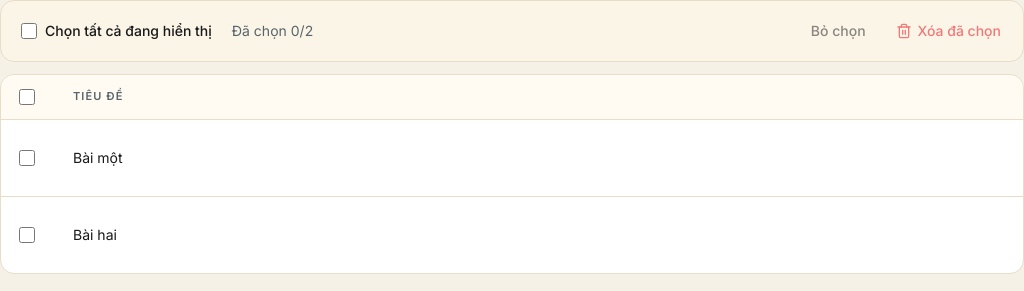
Test case: Chọn và xóa các mục CMS › chọn từng mục và tất cả, có trạng thái một phần, không mở chi tiết hàng
This screenshot has width=1024, height=291.
expect the button with aria-label "Xóa 0 mục đã chọn" is disabled: met, box 886,9 -> 1011,53
Click the checkbox named "Chọn Bài một": (27, 158) 19,150 -> 35,166
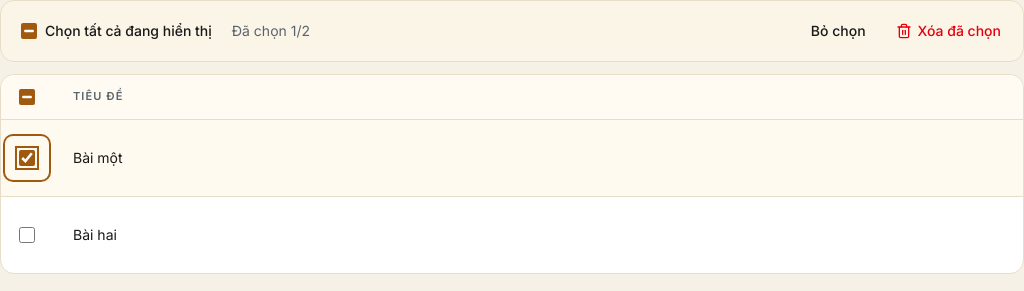
expect the checkbox named "Chọn tất cả các hàng" has attribute aria-checked="mixed": met, box 19,89 -> 35,105
Click the checkbox labelled "Chọn tất cả đang hiển thị": (29, 31) 21,23 -> 37,39
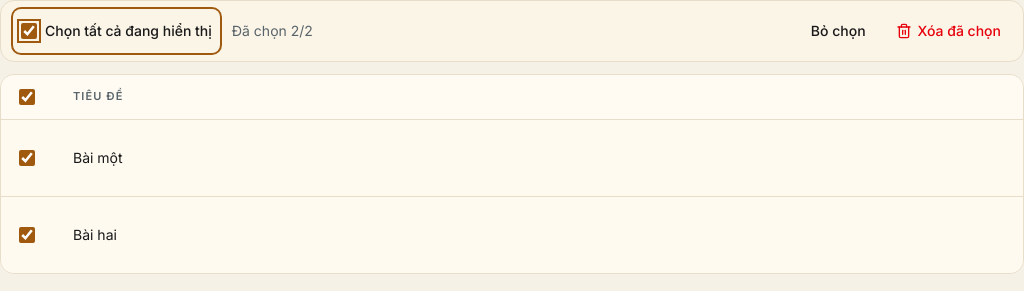
expect the message reads "Đã chọn 2/2": met, box 232,21 -> 313,41
Click the button "Bỏ chọn": (838, 31) 799,9 -> 878,53
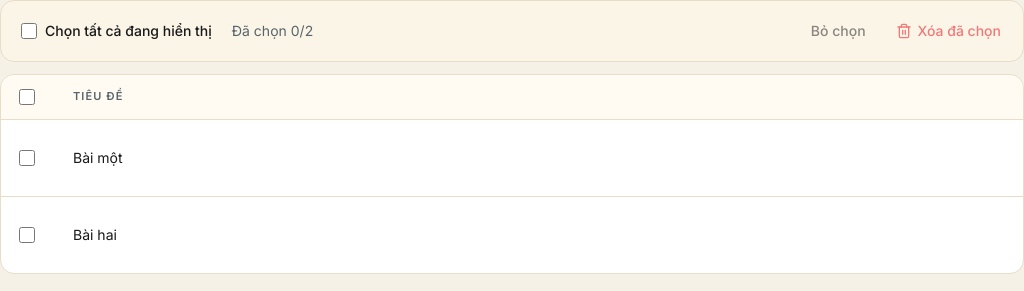
expect the message reads "Đã chọn 0/2": met, box 232,21 -> 313,41
